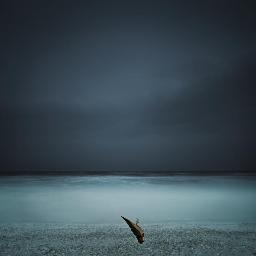Swallow: (120, 216, 144, 245)
